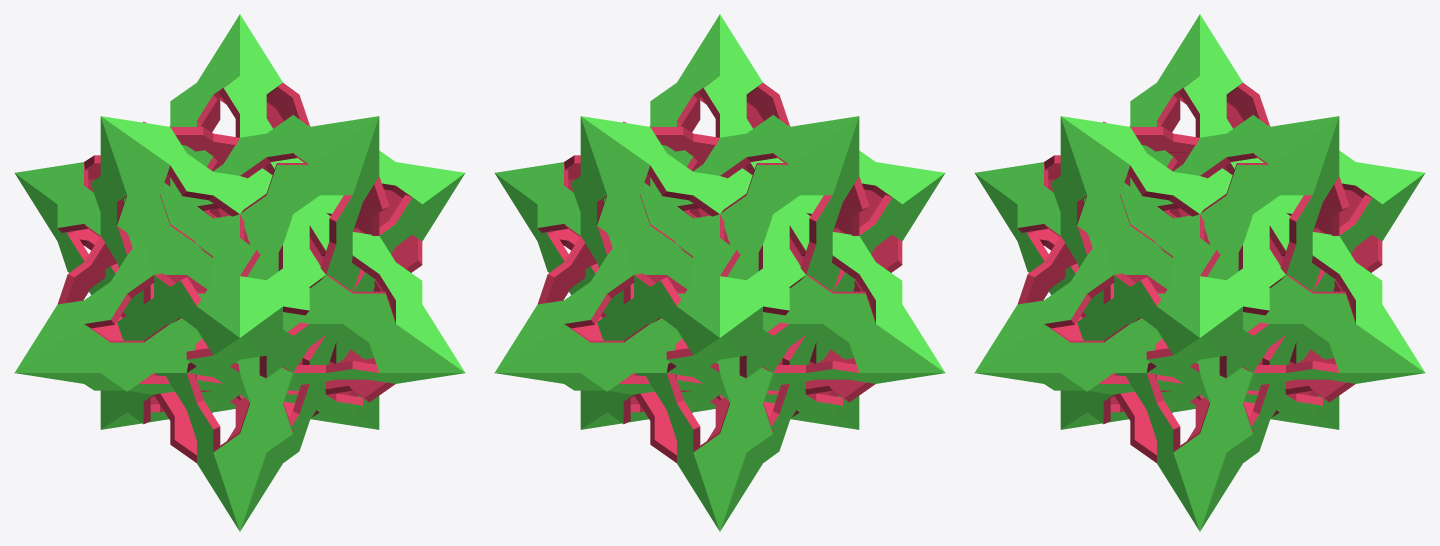
Rendered from StarDodecahedronPolyknot11.glb.
The picture shows the model from 3 angles, left to right: view 1: azimuth 30°, elevation 25°; view 2: azimuth 150°, elevation 25°; view 3: azimuth 270°, elevation 25°; orthographic projection.
Visible parts, largest first — view 1: 3D_RINUS_DODECAHEDRON_1STEWART_CLUSTER_HOLLOW_AugmentedFACET; view 2: 3D_RINUS_DODECAHEDRON_1STEWART_CLUSTER_HOLLOW_AugmentedFACET; view 3: 3D_RINUS_DODECAHEDRON_1STEWART_CLUSTER_HOLLOW_AugmentedFACET.
Part boxes in pixels (<box>): 3D_RINUS_DODECAHEDRON_1STEWART_CLUSTER_HOLLOW_AugmentedFACET: <box>14,14,465,531</box>; 3D_RINUS_DODECAHEDRON_1STEWART_CLUSTER_HOLLOW_AugmentedFACET: <box>494,14,945,531</box>; 3D_RINUS_DODECAHEDRON_1STEWART_CLUSTER_HOLLOW_AugmentedFACET: <box>974,14,1425,531</box>.
Bounding box in the file's own units: 124 × 100 × 107.
